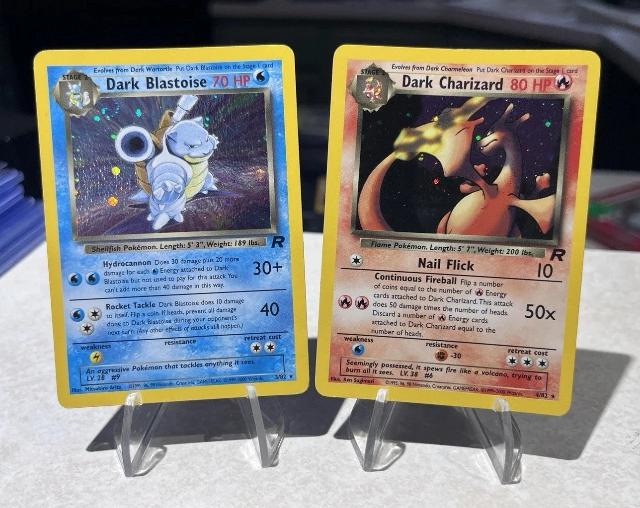Card: (29, 42, 312, 412)
Name: (313, 40, 604, 419), (102, 73, 210, 93)
